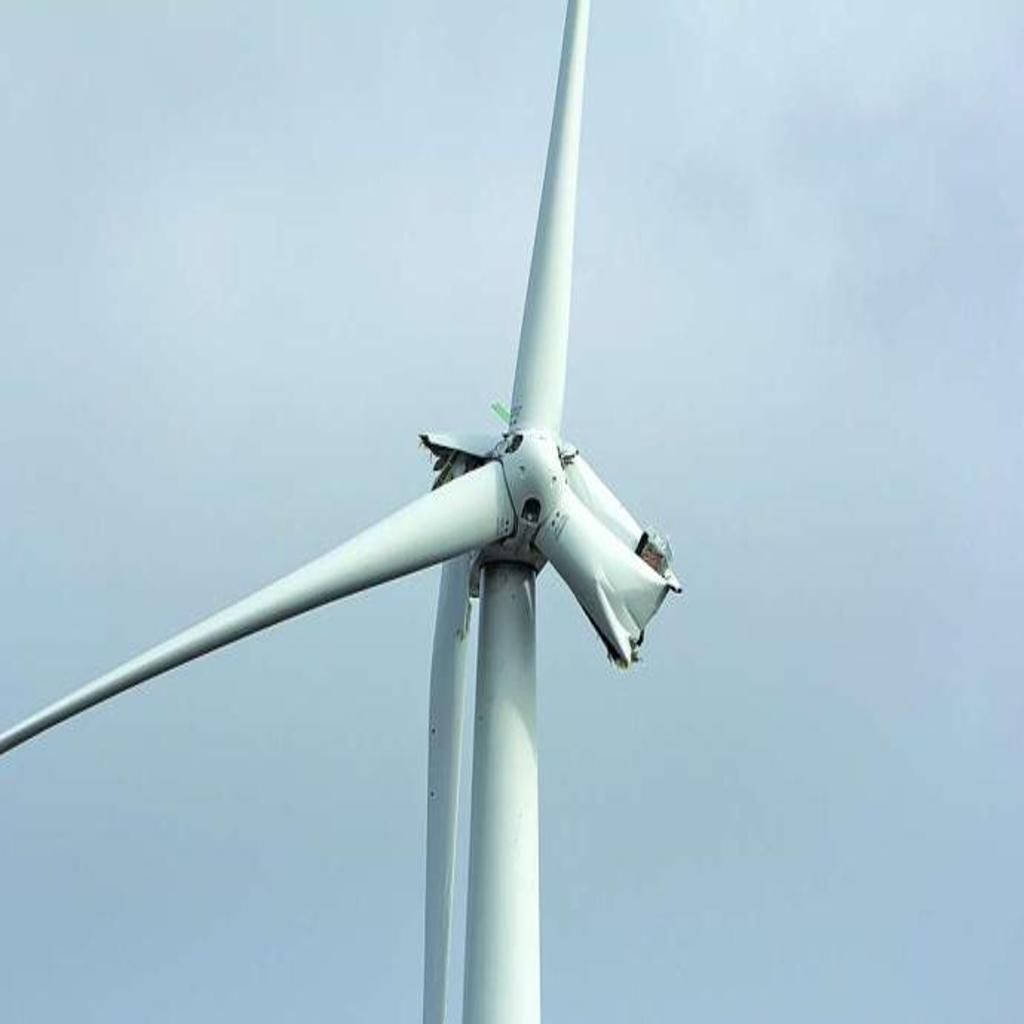crack: (391, 414, 688, 694)
